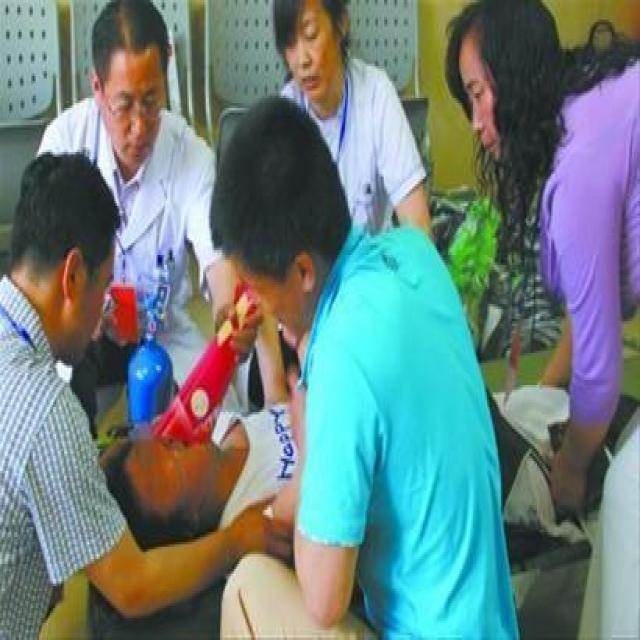Fall-Detected: (89, 304, 340, 603)
